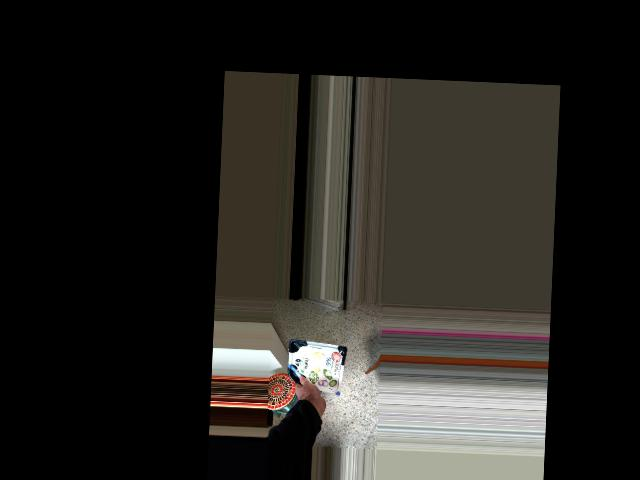cheese: (286, 351, 346, 413)
